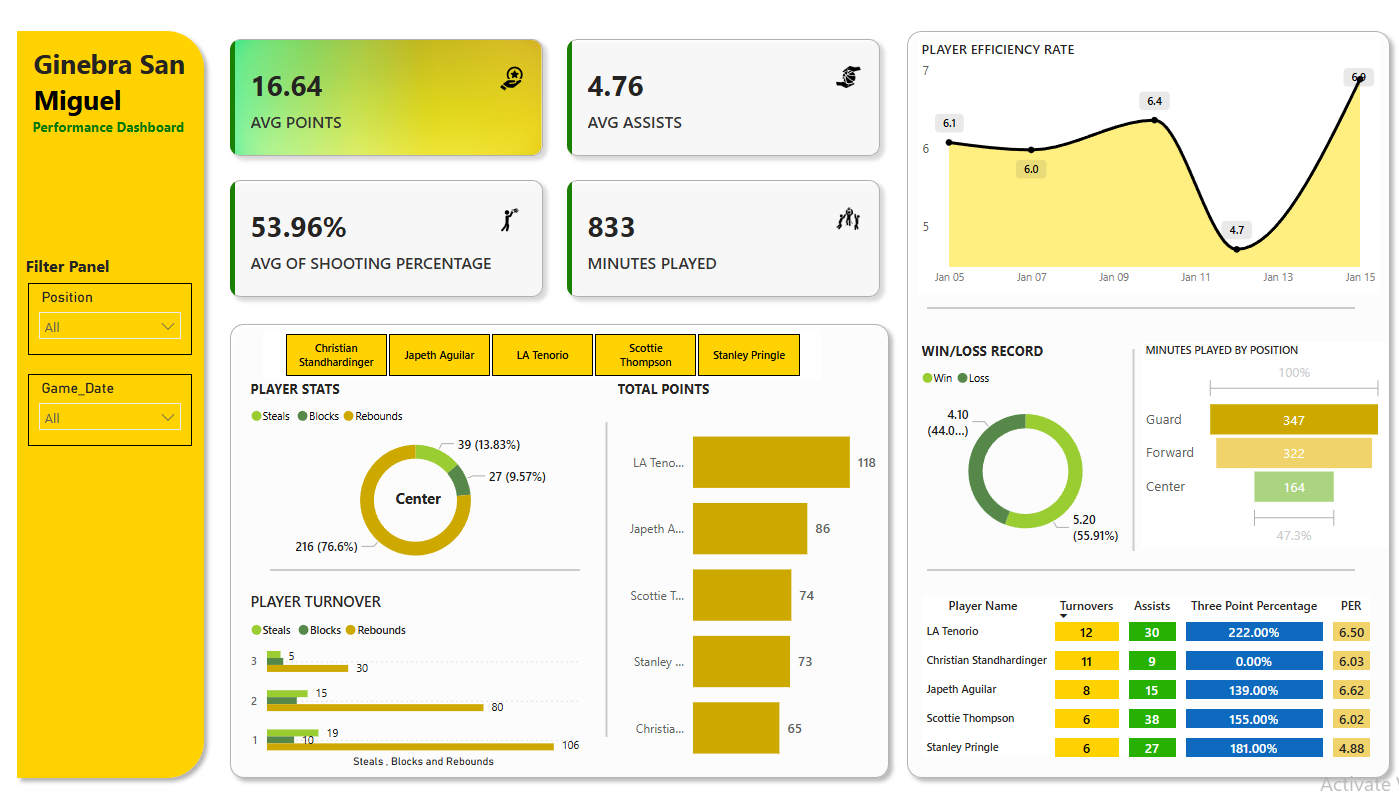

The page's visual inventory and layout, read from the dashboard file:
{"tool":"powerbi","page":{"name":"Page 1","canvas":[1400,800],"ordinal":0},"visuals":[{"type":"shape","box":[8.9,24.4,205.6,764.4],"z":0},{"type":"textbox","box":[30,42,176,91],"z":1000},{"type":"textbox","box":[29,115,164,46],"z":2000},{"type":"cardVisual","fields":{"Data":["Avg(team_ginebra_stats.Points )","Avg(team_ginebra_stats.Assists)","Avg(team_ginebra_stats.Shooting_Percentage )","Sum(team_ginebra_stats.Minutes_Played)"]},"box":[214.4,24.4,684.4,292.2],"z":3000},{"type":"shape","box":[222.2,316.7,676.7,472.2],"z":4000},{"type":"donutChart","title":"PLAYER STATS","fields":{"Y":["Sum(team_ginebra_stats.Steals )","Sum(team_ginebra_stats.Blocks)","Sum(team_ginebra_stats.Rebounds )"]},"box":[246.7,382.2,338.9,195.6],"z":5000},{"type":"slicer","fields":{"Values":["team_ginebra_stats.Player_Name"]},"box":[264,332,558,50],"z":6000},{"type":"cardVisual","fields":{"Data":["Min(team_ginebra_stats.Position)"]},"box":[380,447.8,94.4,95.6],"z":7000},{"type":"clusteredBarChart","title":"PLAYER TURNOVER","fields":{"Y":["Sum(team_ginebra_stats.Steals )","Sum(team_ginebra_stats.Blocks)","Sum(team_ginebra_stats.Rebounds )"],"Category":["team_ginebra_stats.Turnovers"]},"box":[246.7,593.3,338.9,181.1],"z":8000},{"type":"shape","box":[271.1,565.6,310,12.2],"z":9000},{"type":"shape","box":[601.1,424.4,13.3,314.4],"z":10000},{"type":"barChart","title":"TOTAL POINTS","fields":{"Category":["team_ginebra_stats.Player_Name"],"Y":["Sum(team_ginebra_stats.Points)"]},"box":[614.4,382.2,270,406.7],"z":11000},{"type":"shape","box":[898.9,24.4,501.1,764.4],"z":12000},{"type":"lineChart","title":"PLAYER EFFICIENCY RATE ","fields":{"Y":["Sum(team_ginebra_stats.PER)"],"Category":["team_ginebra_stats.Game_Date"]},"box":[918,42,463,255],"z":13000},{"type":"shape","box":[928,304,428,12],"z":14000},{"type":"donutChart","title":"WIN/LOSS RECORD","fields":{"Y":["Avg(team_ginebra_stats.Assists)"],"Category":["team_ginebra_stats.Game_Outcome"]},"box":[918,344,217,214],"z":15000},{"type":"shape","box":[1131,351,7,202],"z":16000},{"type":"funnel","title":"MINUTES PLAYED BY POSITION","fields":{"Category":["team_ginebra_stats.Position"],"Y":["Sum(team_ginebra_stats.Minutes_Played)"]},"box":[1142,344,247,207],"z":17000},{"type":"shape","box":[928,566,428,12],"z":18000},{"type":"pivotTable","fields":{"Rows":["team_ginebra_stats.Player_Name"],"Values":["Sum(team_ginebra_stats.Turnovers)","Sum(team_ginebra_stats.Assists)","Sum(team_ginebra_stats.Three_Point_Percentage )","Sum(team_ginebra_stats.PER)"]},"box":[918,593,463,196],"z":19000},{"type":"slicer","fields":{"Values":["team_ginebra_stats.Position"]},"box":[29,285,164,72],"z":20000},{"type":"slicer","fields":{"Values":["team_ginebra_stats.Game_Date"]},"box":[29,376,164,72],"z":21000},{"type":"textbox","box":[16,246,147,51],"z":22000}]}

Visuals, with their boxes in screenshot pixels (x1, y1, x2, y2), scaled from the page's 1400x800 canvas onto the 1399x796 screenshot:
shape: bbox=(9, 24, 214, 785)
textbox: bbox=(30, 42, 206, 132)
textbox: bbox=(29, 114, 193, 160)
cardVisual - Avg(team_ginebra_stats.Points ) x Avg(team_ginebra_stats.Assists): bbox=(214, 24, 898, 315)
shape: bbox=(222, 315, 898, 785)
"PLAYER STATS" donutChart: bbox=(247, 380, 585, 575)
slicer - team_ginebra_stats.Player_Name: bbox=(264, 330, 821, 380)
cardVisual - Min(team_ginebra_stats.Position): bbox=(380, 446, 474, 541)
"PLAYER TURNOVER" clusteredBarChart: bbox=(247, 590, 585, 771)
shape: bbox=(271, 563, 581, 575)
shape: bbox=(601, 422, 614, 735)
"TOTAL POINTS" barChart: bbox=(614, 380, 884, 785)
shape: bbox=(898, 24, 1398, 785)
"PLAYER EFFICIENCY RATE " lineChart: bbox=(917, 42, 1380, 296)
shape: bbox=(927, 302, 1355, 314)
"WIN/LOSS RECORD" donutChart: bbox=(917, 342, 1134, 555)
shape: bbox=(1130, 349, 1137, 550)
"MINUTES PLAYED BY POSITION" funnel: bbox=(1141, 342, 1388, 548)
shape: bbox=(927, 563, 1355, 575)
pivotTable - team_ginebra_stats.Player_Name x Sum(team_ginebra_stats.Turnovers): bbox=(917, 590, 1380, 785)
slicer - team_ginebra_stats.Position: bbox=(29, 284, 193, 355)
slicer - team_ginebra_stats.Game_Date: bbox=(29, 374, 193, 446)
textbox: bbox=(16, 245, 163, 296)
